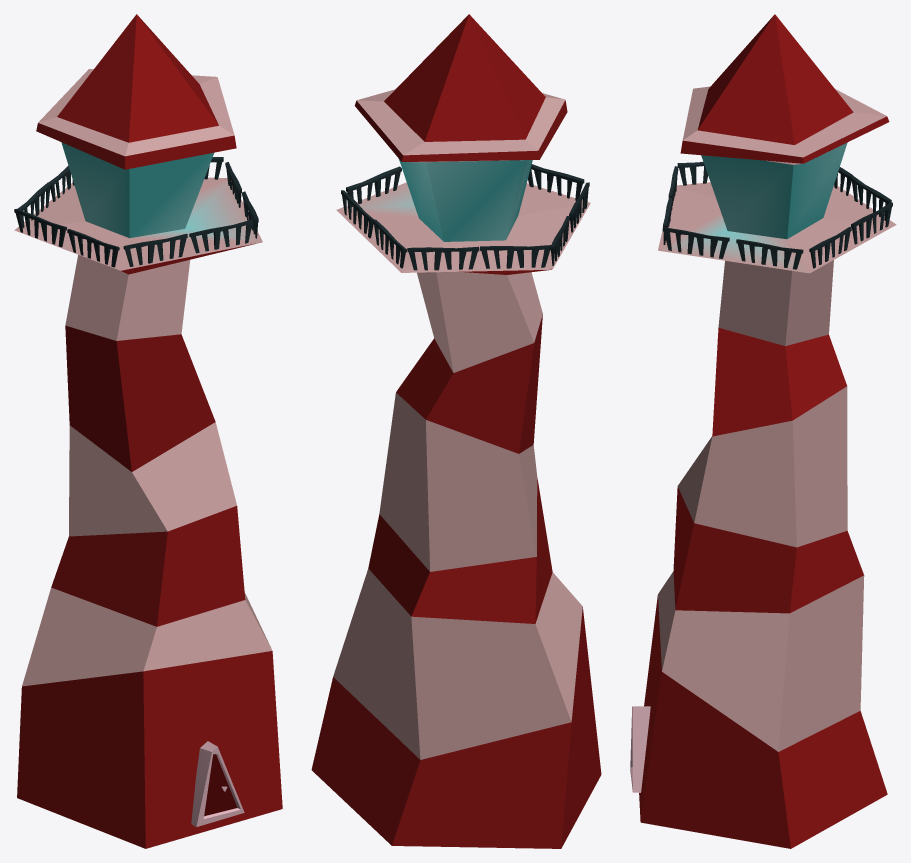
File: c_lighthouse_aa.fbx
3 renders of one model, left to right at view 1: azimuth 30°, elevation 25°; view 2: azimuth 150°, elevation 25°; view 3: azimuth 270°, elevation 25°, orthographic. The views are drawn at different scales.
Visible parts, largest first — view 1: c_lighthouse_aa; view 2: c_lighthouse_aa; view 3: c_lighthouse_aa.
Boxes of the visible parts, x1,y1,x2,y2 form: c_lighthouse_aa: [14, 14, 282, 848]; c_lighthouse_aa: [311, 14, 601, 848]; c_lighthouse_aa: [630, 14, 896, 848].
Bounding box in the file's own units: 8.98 × 26.31 × 8.2.
